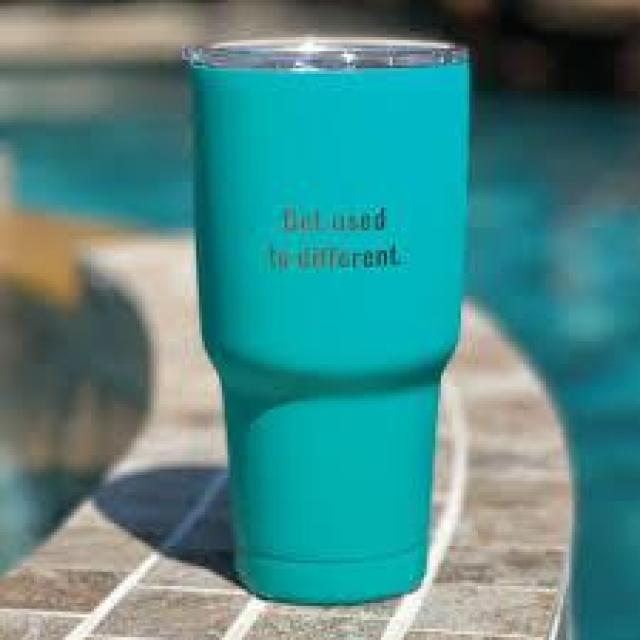bottle: (185, 41, 469, 604)
